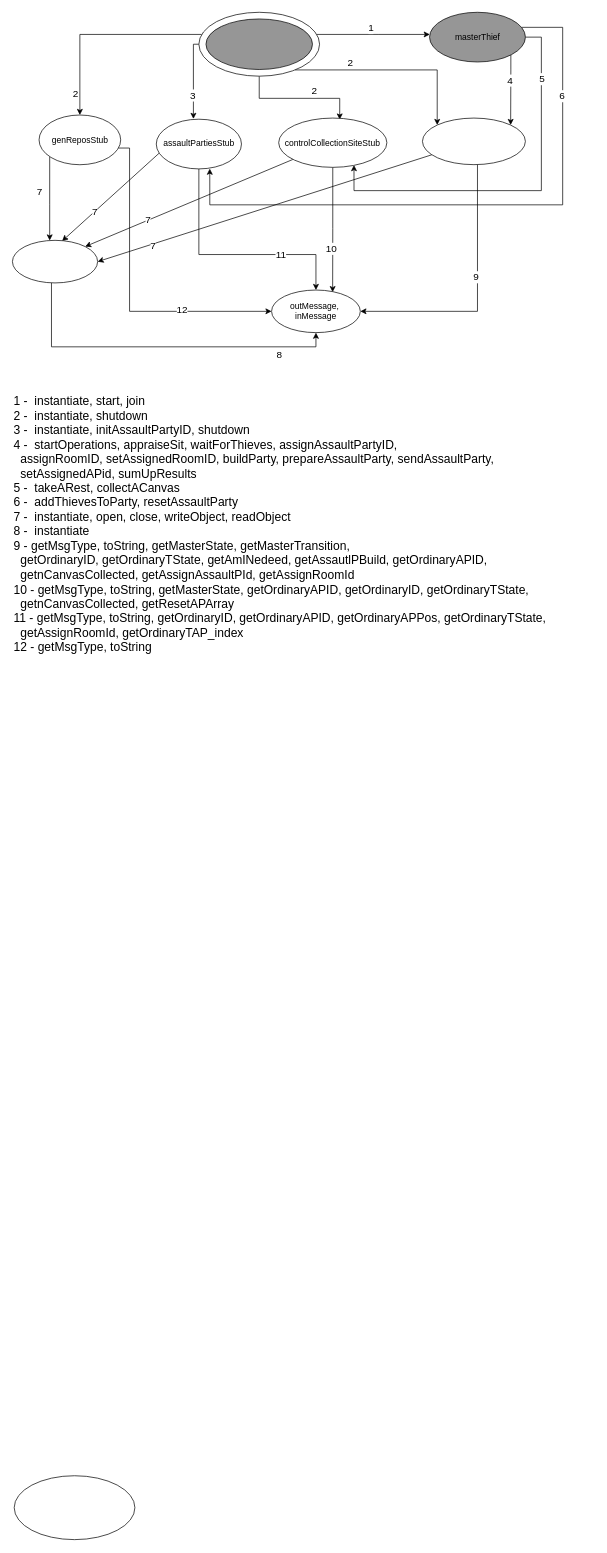
Image size: 607x1553. Some labels were removed from this diagram. The shapes that lost their labels are listed below. From the top down, each one's box as (x1, y1, x2, y2) in pixels, then its label:
(205, 18, 312, 70): ClientHeistToTheMuseum Master
(422, 117, 525, 165): concentrationSiteStub
(12, 240, 98, 283): com
